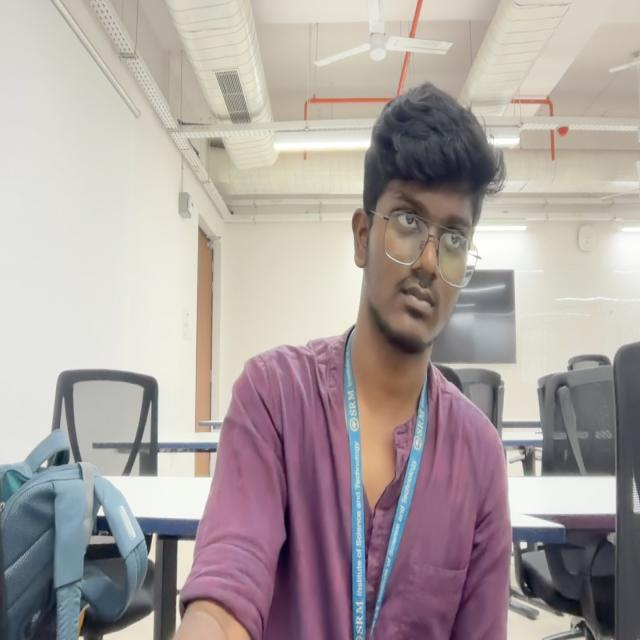ravindra: (350, 87, 504, 352)
